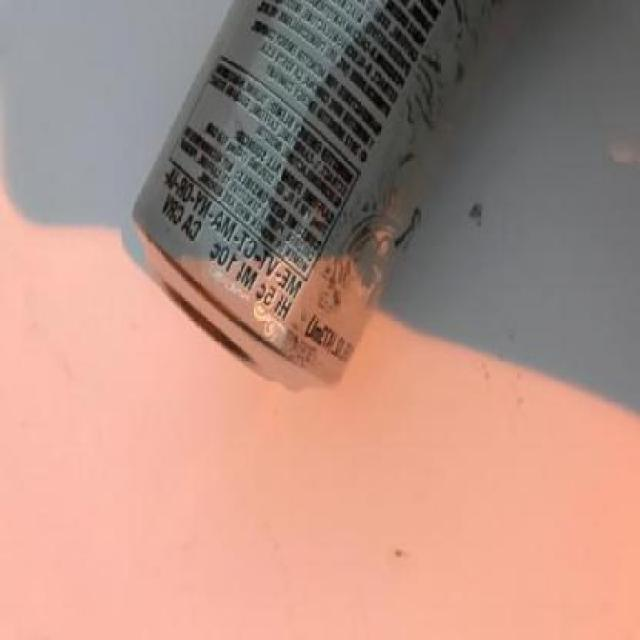METAL: (132, 2, 510, 396)
